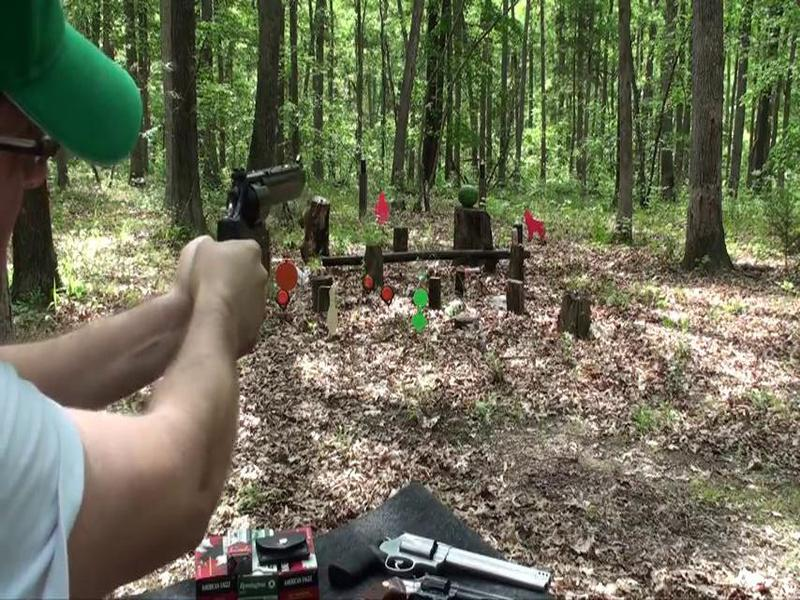Revolver: (182, 151, 322, 285)
